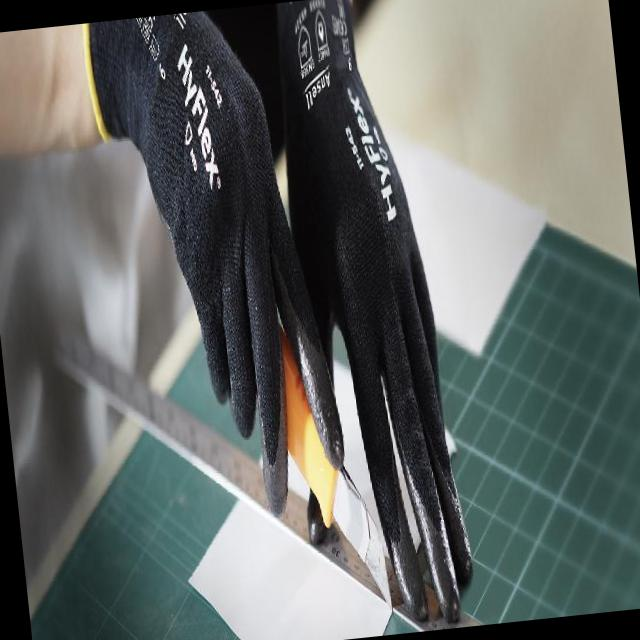Gloves: (253, 0, 497, 640), (80, 1, 344, 497)
